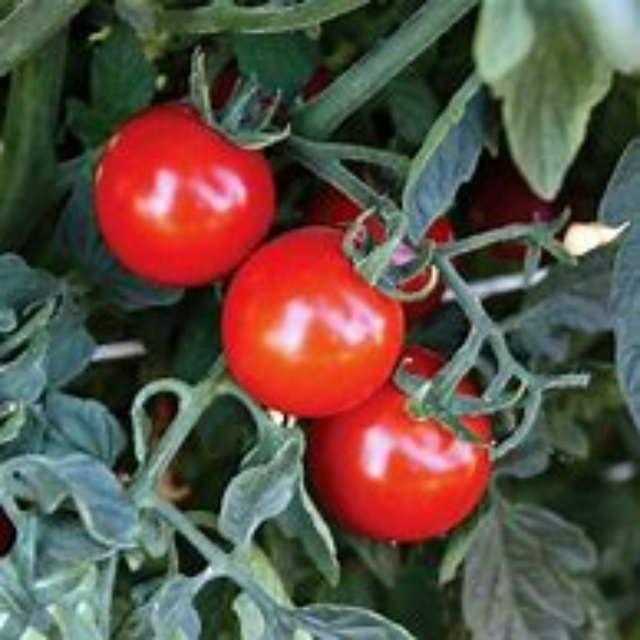tomato: (222, 229, 397, 419), (312, 364, 494, 539), (96, 111, 267, 281)
